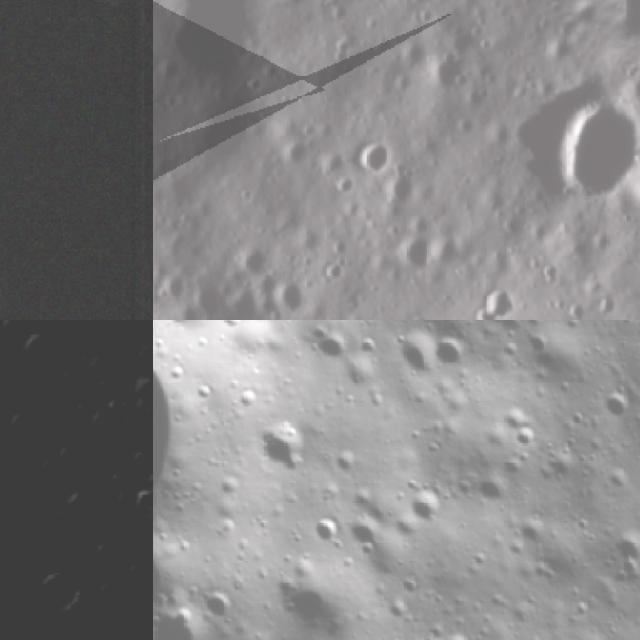crater: (506, 55, 640, 232), (153, 266, 294, 320), (244, 407, 323, 486), (341, 117, 407, 185), (391, 216, 454, 281), (386, 321, 447, 387), (248, 0, 365, 33), (375, 158, 435, 221), (459, 268, 530, 320), (11, 320, 71, 381), (29, 558, 87, 618), (611, 131, 640, 240), (32, 437, 88, 492), (153, 597, 216, 640), (426, 327, 476, 378), (304, 322, 354, 372), (403, 482, 452, 532), (198, 580, 246, 631), (1, 402, 50, 451), (342, 508, 390, 557), (593, 382, 640, 431), (509, 507, 556, 553), (113, 548, 153, 599), (471, 467, 516, 512), (306, 508, 349, 549), (605, 525, 640, 574), (498, 400, 537, 439), (517, 321, 555, 361), (600, 459, 636, 497), (330, 446, 365, 482), (381, 590, 415, 627), (507, 421, 543, 455), (129, 374, 153, 415), (109, 480, 141, 510), (0, 320, 32, 344), (131, 486, 153, 520), (439, 623, 476, 640), (0, 494, 13, 528)
